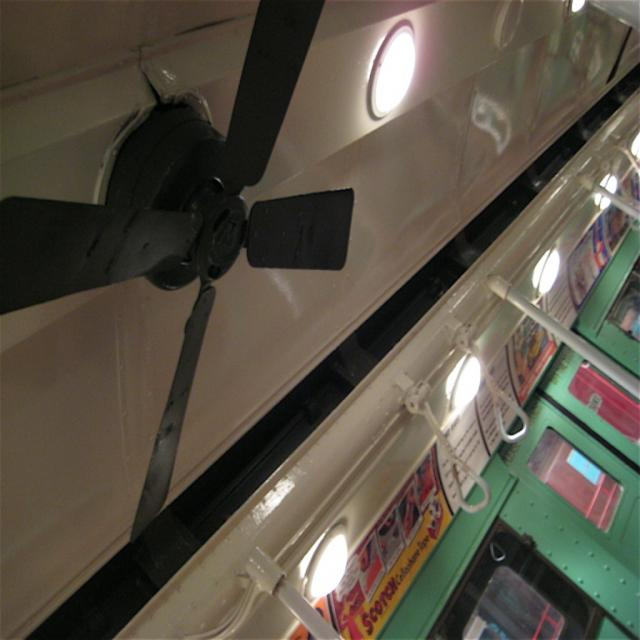Bulb: (0, 0, 355, 546)
